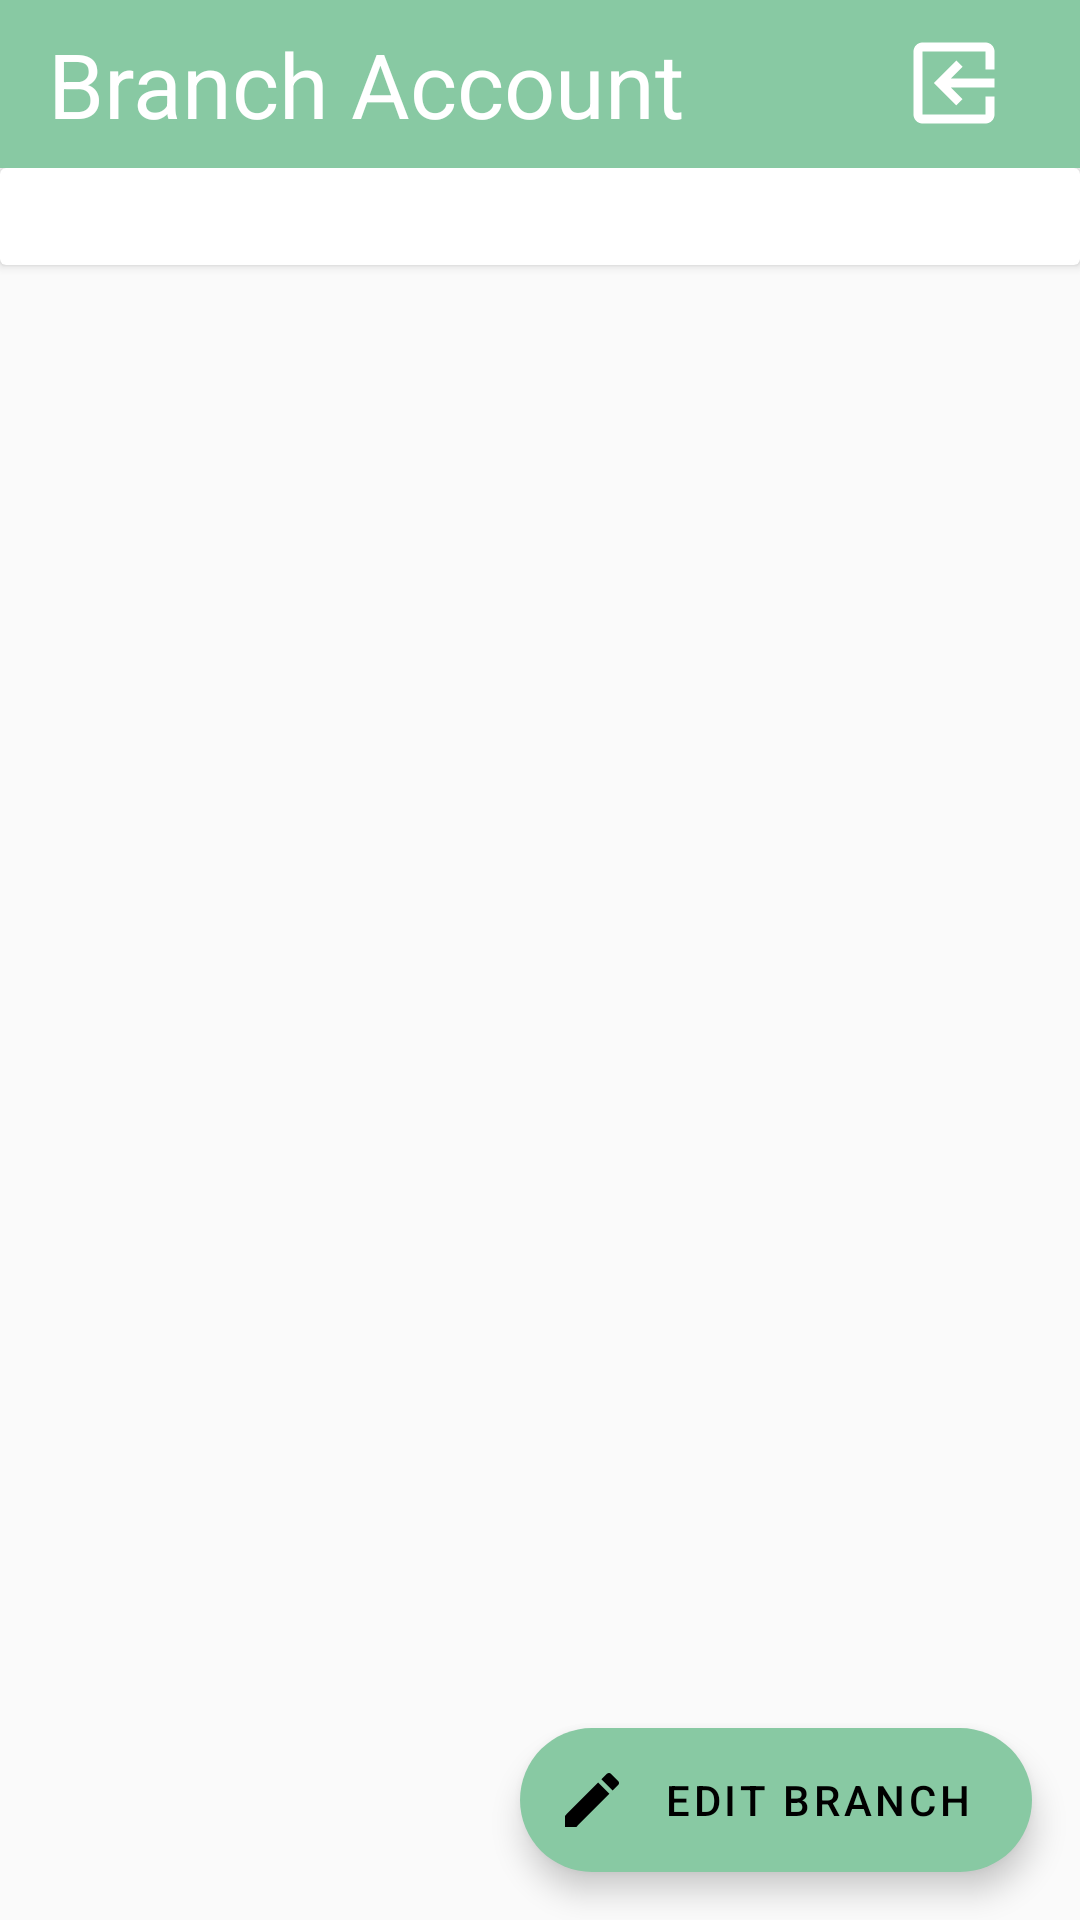

Where to tap for icons on this 1080 × 1920 app screen, as (x=x, y=y):
exit to app: (x=954, y=83)
